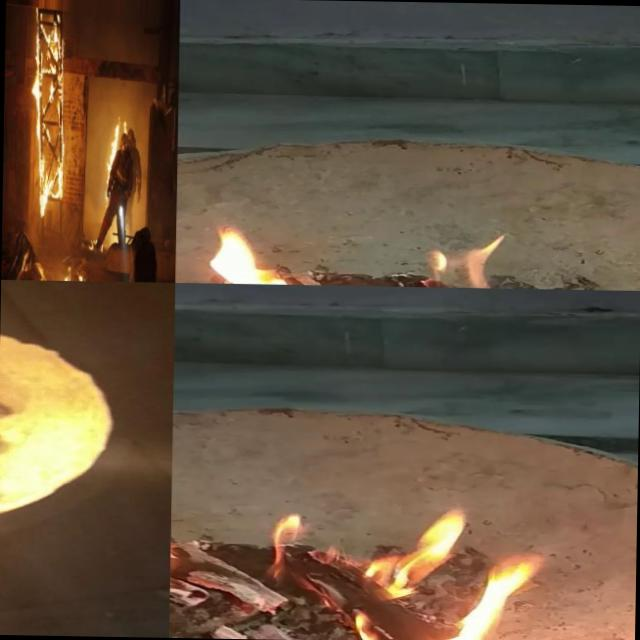fire: (259, 498, 538, 640), (422, 226, 640, 290), (200, 203, 306, 285), (30, 0, 66, 212), (105, 120, 117, 176), (88, 230, 104, 254), (61, 264, 85, 280)
